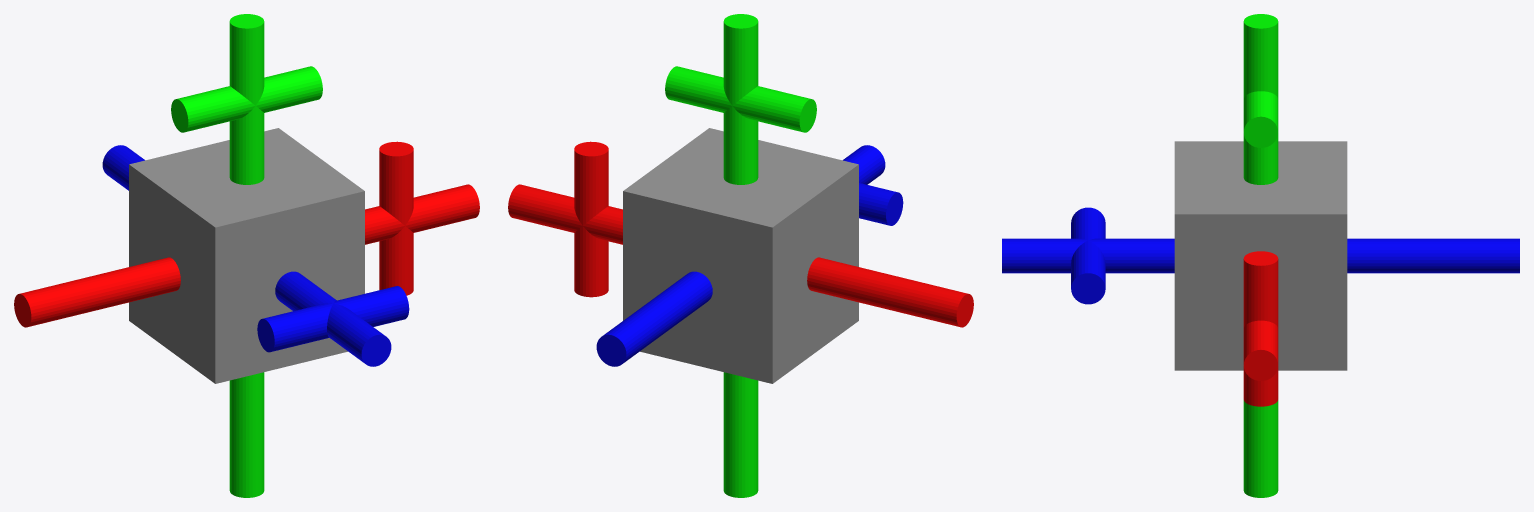
The model's file is cross.obj.
3 views of the same model, side by side, from view 1: azimuth 30°, elevation 25°; view 2: azimuth 150°, elevation 25°; view 3: azimuth 270°, elevation 25° (orthographic).
Parts seen in each view (by area): view 1: Cube; view 2: Cube; view 3: Cube.
Boxes of the visible parts, x1,y1,x2,y2 form: Cube: (14,14,479,497); Cube: (508,14,973,497); Cube: (1002,14,1519,497).
Bounding box in the file's own units: 3 × 3 × 3.
1 material, 1 textured.
